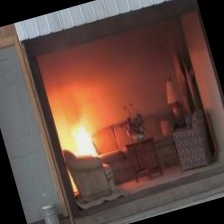fire: (50, 92, 98, 142)
